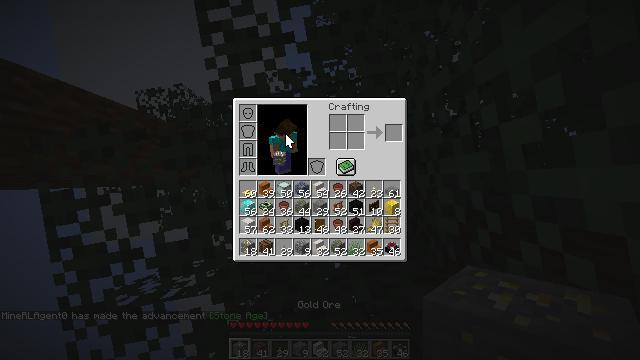cursor: (285, 133, 295, 149)
